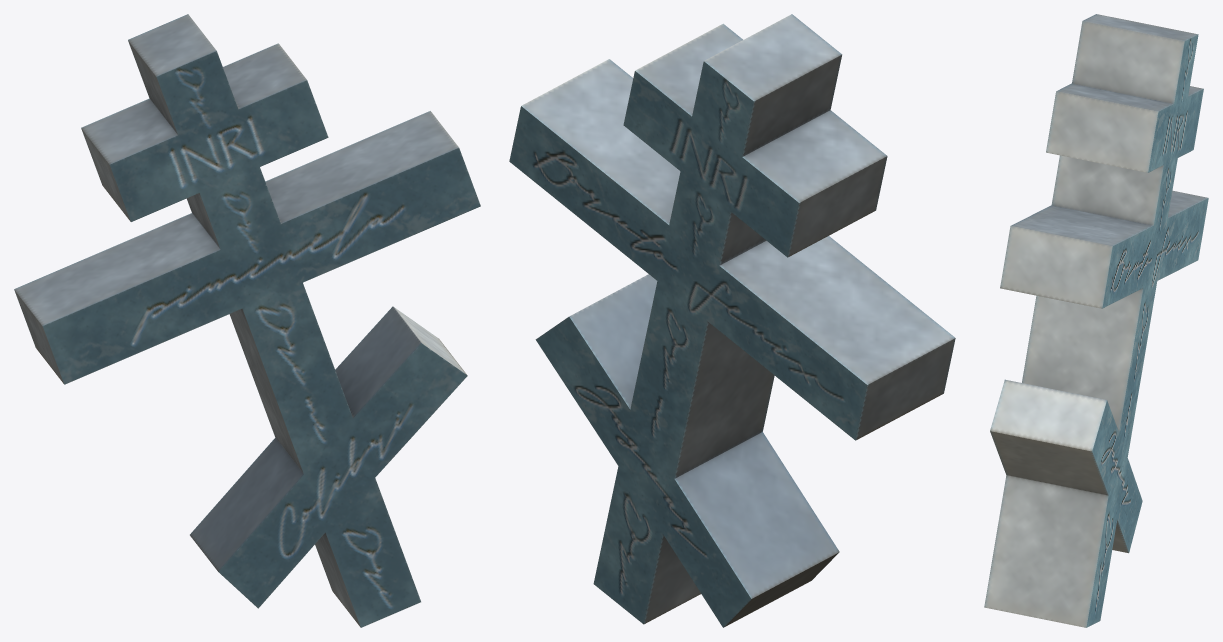
The picture shows the model from 3 angles, left to right: view 1: azimuth 30°, elevation 25°; view 2: azimuth 150°, elevation 25°; view 3: azimuth 270°, elevation 25°; orthographic projection. The views are drawn at different scales.
Parts seen in each view (by area): view 1: Cruz_Orto_Cube.011; view 2: Cruz_Orto_Cube.011; view 3: Cruz_Orto_Cube.011.
Part boxes in pixels (<box>): Cruz_Orto_Cube.011: <box>14,14,480,627</box>; Cruz_Orto_Cube.011: <box>509,14,955,627</box>; Cruz_Orto_Cube.011: <box>984,14,1208,627</box>.
Bounding box in the file's own units: 1.99 × 2.69 × 1.01.
